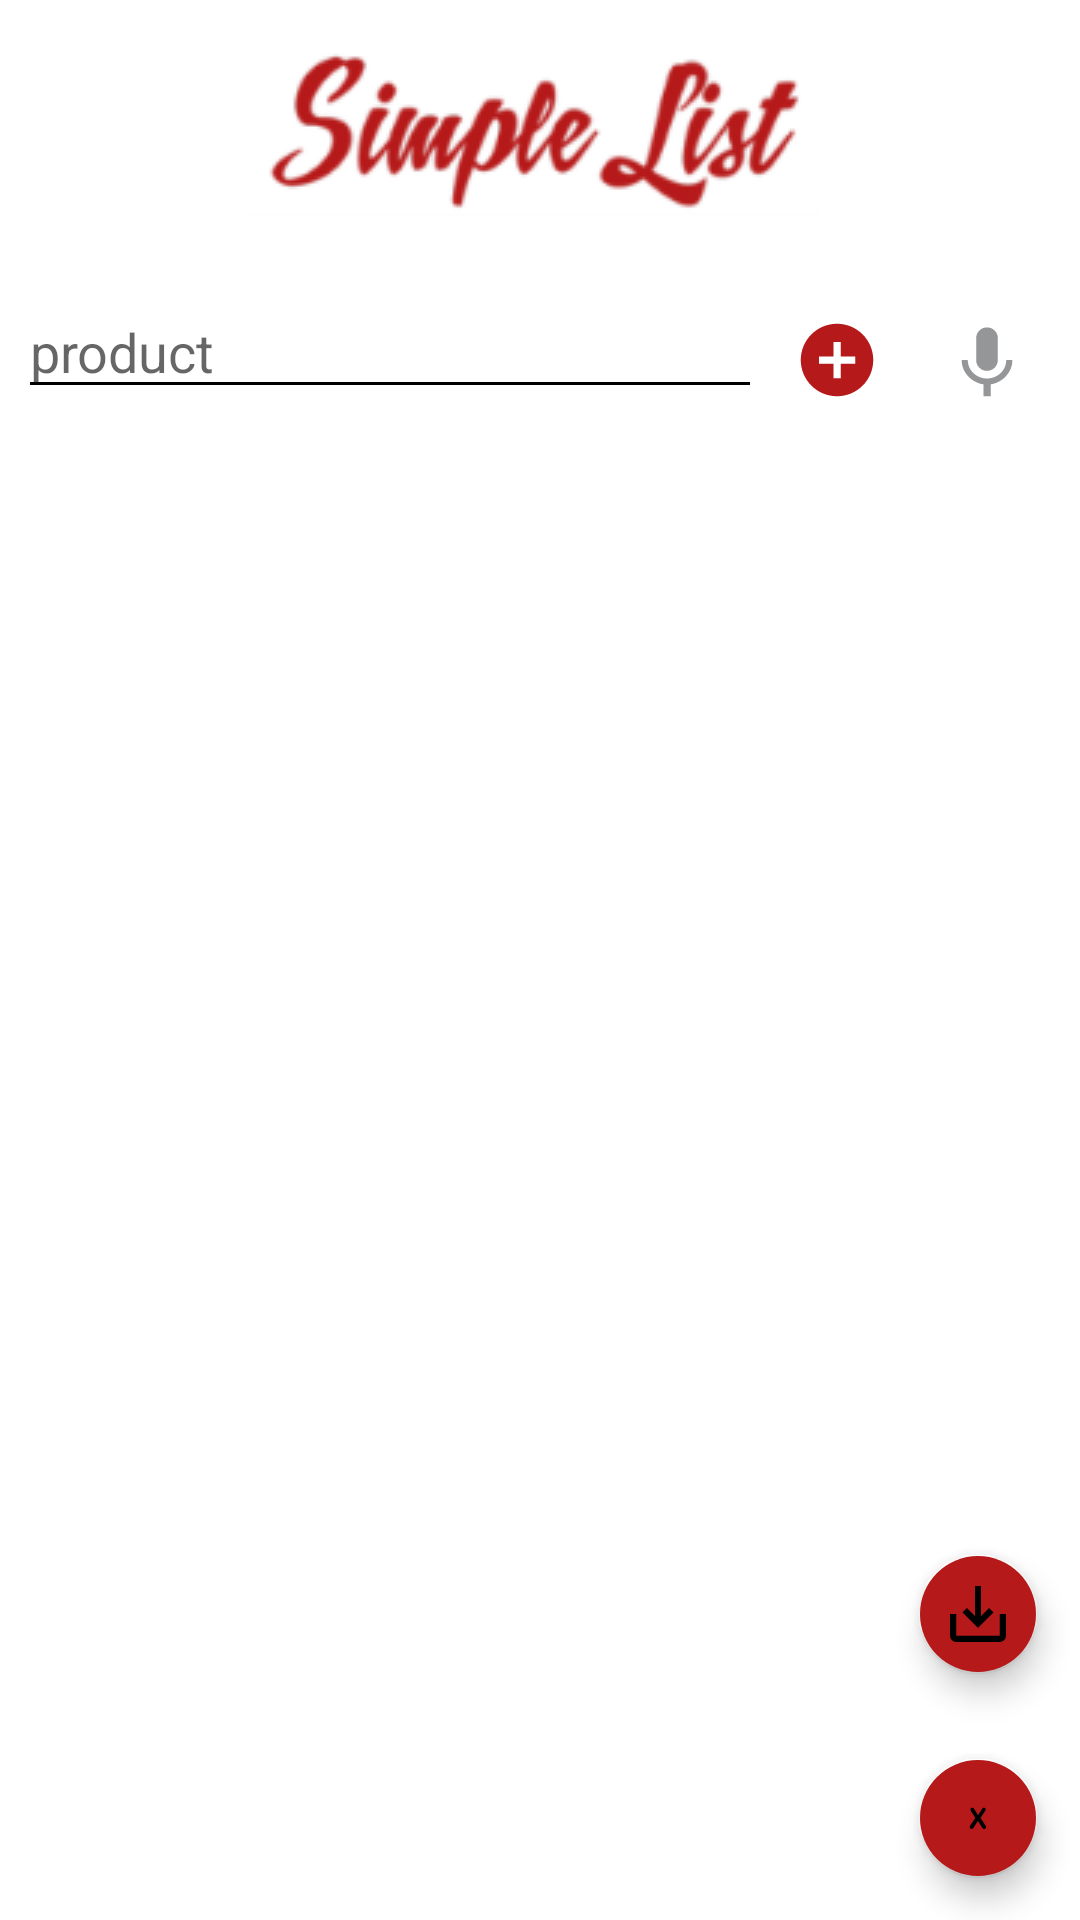

Where icons sit on this 1080w x 1920h app screen, as (x1, y1, x2, y2):
add: (800, 323, 874, 397)
delete: (920, 1760, 1041, 1890)
save: (920, 1556, 1041, 1686)
voice: (961, 327, 1013, 397)
